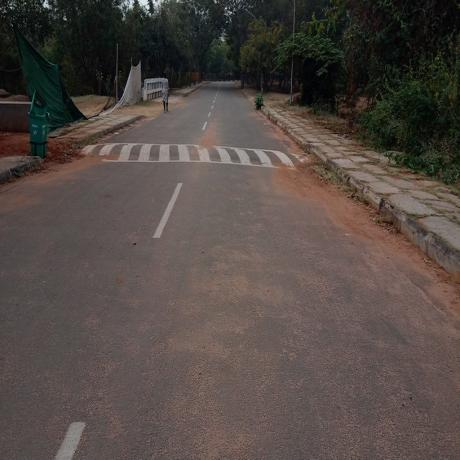Speed Bump: (82, 139, 311, 173)
